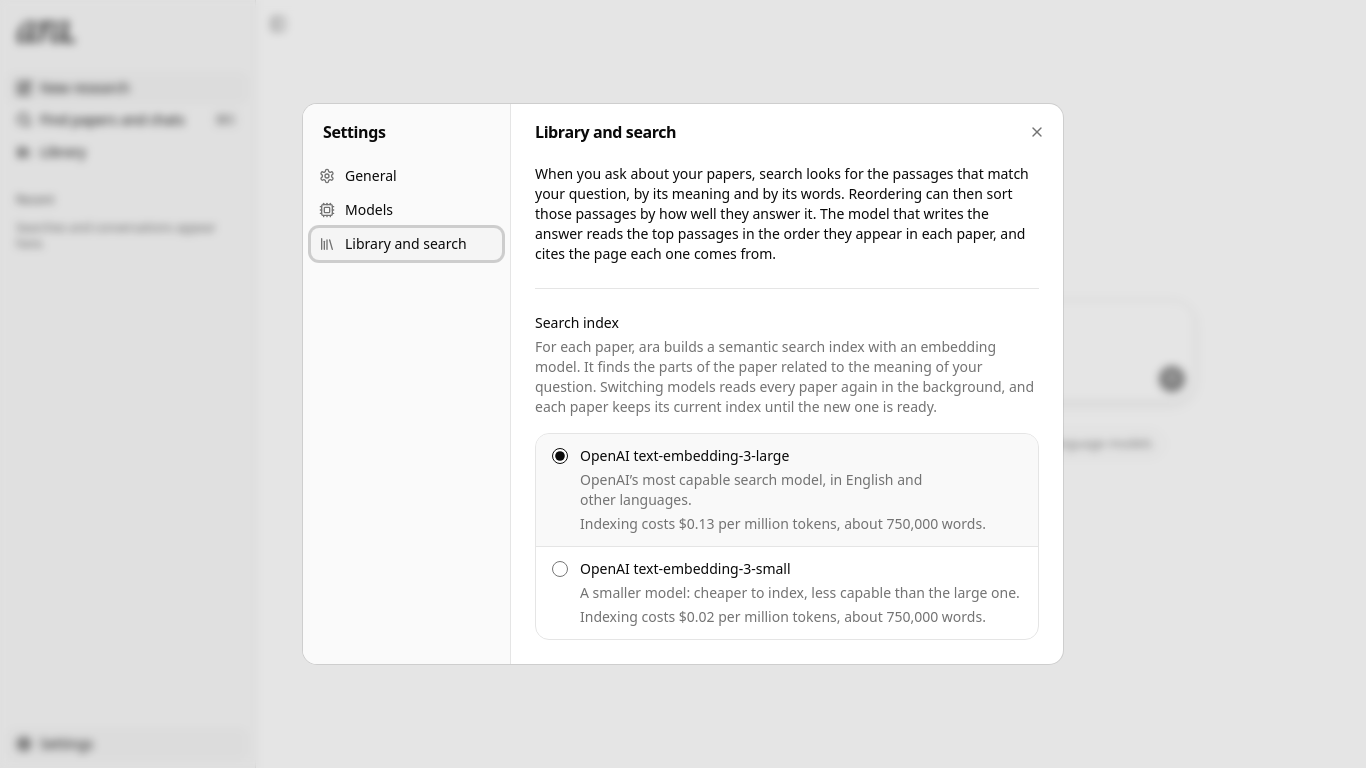
Test: Given an estimate, When the rebuild dialog opens, Then the words come from the same rounded token count
Click the radio button labelled "OpenAI text-embedding-3-small" at (560, 569), box [552,561,568,577]
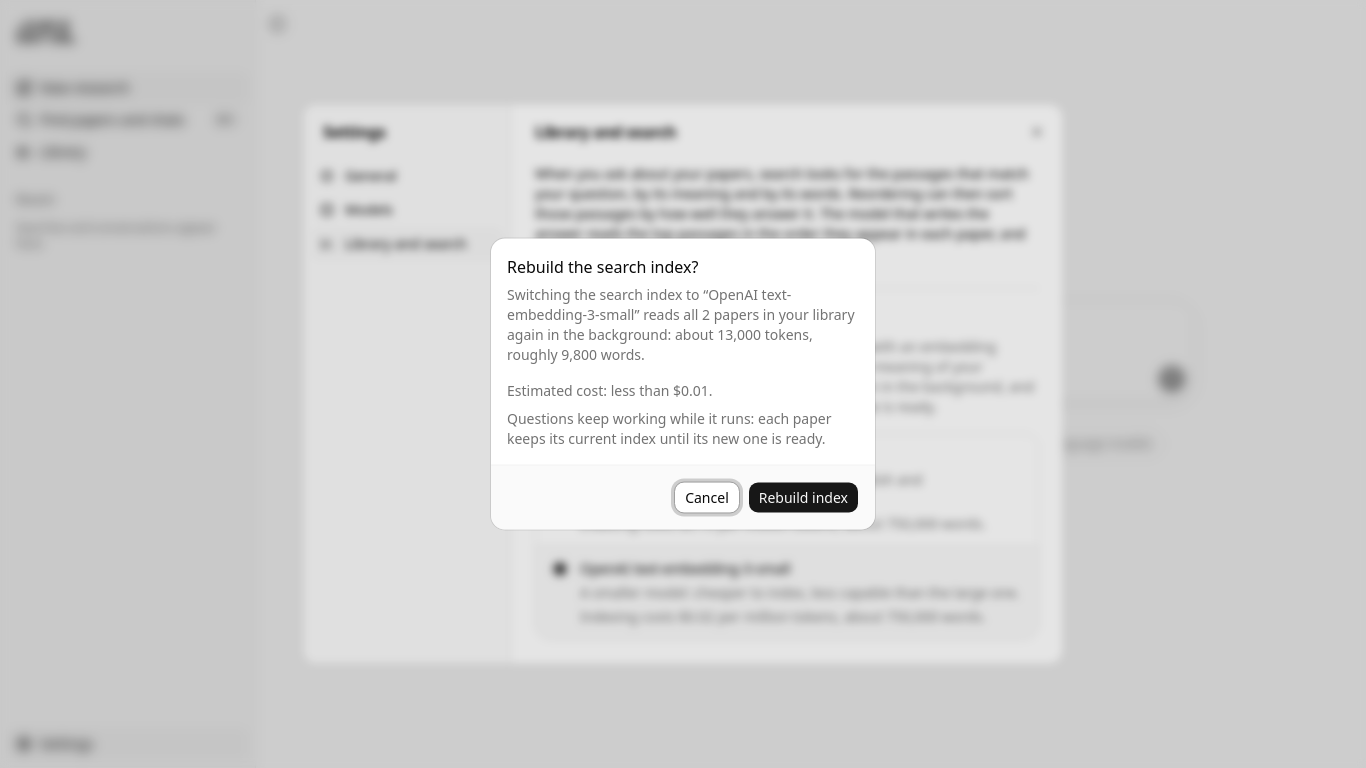
Expected: the text "about 13,000 tokens, roughly 9,800 words." is shown, [507,284,854,364]
